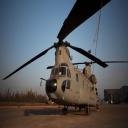helicopter: (4, 24, 122, 120)
